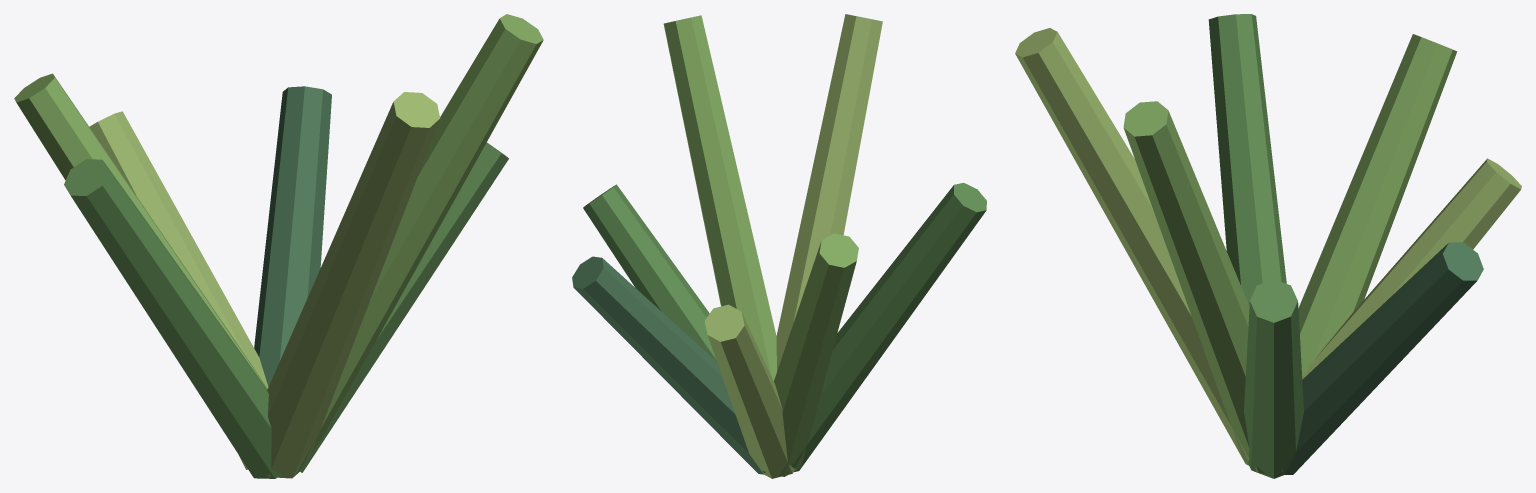
Rendered from grass.glb.
The picture shows the model from 3 angles, left to right: view 1: azimuth 30°, elevation 25°; view 2: azimuth 150°, elevation 25°; view 3: azimuth 270°, elevation 25°; orthographic projection. The views are drawn at different scales.
Visible parts, largest first — view 1: Grass blade.002, Grass blade.004, Grass blade.005, Grass blade.003, Grass blade.006, Grass blade.001, Grass blade; view 2: Grass blade.005, Grass blade.004, Grass blade.002, Grass blade.003, Grass blade.001, Grass blade.006, Grass blade; view 3: Grass blade.001, Grass blade.002, Grass blade.005, Grass blade.004, Grass blade.003, Grass blade, Grass blade.006.
Boxes of the visible parts, bbox=[...] form: Grass blade.002: bbox=[264, 92, 440, 478]; Grass blade.004: bbox=[64, 159, 281, 478]; Grass blade.005: bbox=[295, 14, 543, 474]; Grass blade.003: bbox=[254, 86, 331, 386]; Grass blade.006: bbox=[89, 111, 268, 469]; Grass blade.001: bbox=[14, 73, 267, 389]; Grass blade: bbox=[299, 142, 508, 472]; Grass blade.005: bbox=[663, 15, 776, 380]; Grass blade.004: bbox=[786, 182, 986, 473]; Grass blade.002: bbox=[776, 14, 882, 371]; Grass blade.003: bbox=[572, 256, 763, 474]; Grass blade.001: bbox=[762, 233, 858, 476]; Grass blade.006: bbox=[704, 304, 795, 478]; Grass blade: bbox=[583, 184, 716, 361]; Grass blade.001: bbox=[1298, 34, 1457, 376]; Grass blade.002: bbox=[1015, 28, 1255, 469]; Grass blade.005: bbox=[1123, 101, 1282, 473]; Grass blade.004: bbox=[1208, 14, 1286, 305]; Grass blade.003: bbox=[1284, 242, 1483, 474]; Grass blade: bbox=[1244, 279, 1303, 478]; Grass blade.006: bbox=[1302, 158, 1521, 379].
Size of the model in its own units: 0.5575 by 0.535 by 0.5524.
